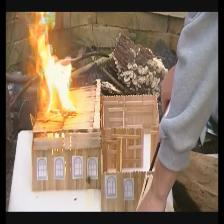fire: (31, 16, 77, 117)
